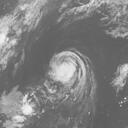cyclone: (49, 51, 85, 86)
